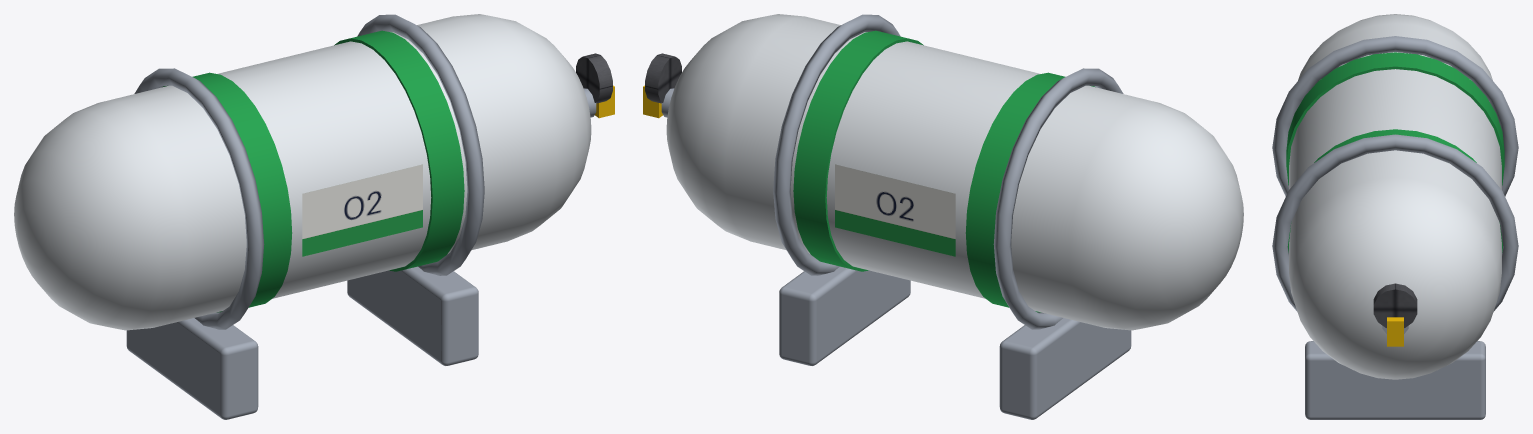
File: OxygenTank.glb
3 views of the same model, side by side, from view 1: azimuth 30°, elevation 25°; view 2: azimuth 150°, elevation 25°; view 3: azimuth 270°, elevation 25° (orthographic). The views are drawn at different scales.
Visible parts, largest first — view 1: OxygenTank_Mesh; view 2: OxygenTank_Mesh; view 3: OxygenTank_Mesh.
Boxes of the visible parts, x1=… form: OxygenTank_Mesh: x1=14, y1=14, x2=614, y2=419; OxygenTank_Mesh: x1=643, y1=14, x2=1243, y2=419; OxygenTank_Mesh: x1=1272, y1=14, x2=1518, y2=419.
Bounding box in the file's own units: 2.19 × 1.1 × 0.88.
Materials: 6 (2 with a texture image).
